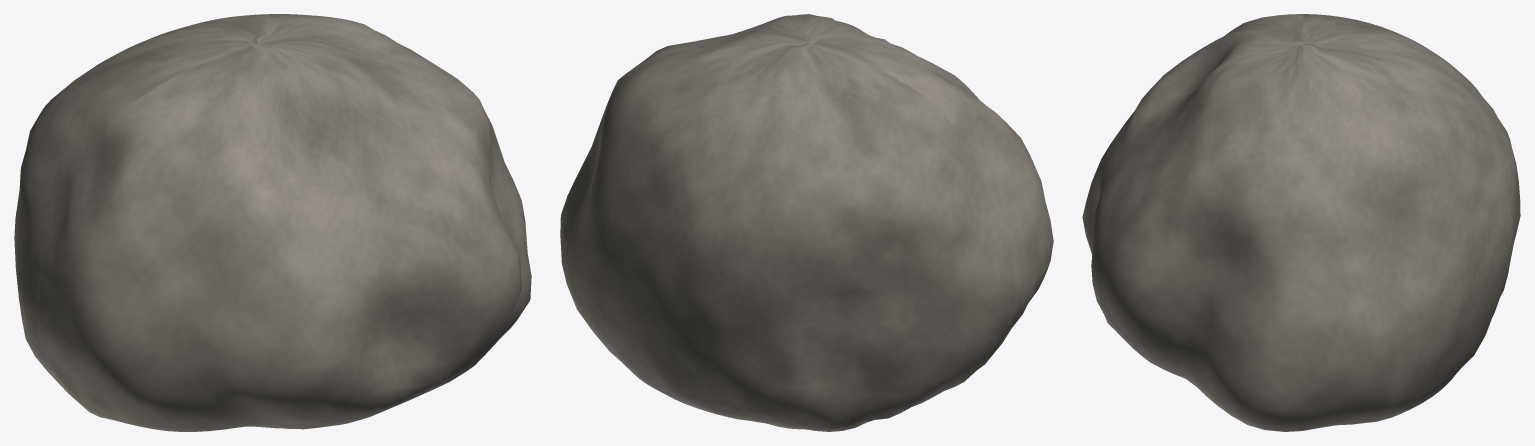
The picture shows the model from 3 angles, left to right: view 1: azimuth 30°, elevation 25°; view 2: azimuth 150°, elevation 25°; view 3: azimuth 270°, elevation 25°; orthographic projection. The views are drawn at different scales.
Visible parts, largest first — view 1: Thebe; view 2: Thebe; view 3: Thebe.
Part boxes in pixels (x1=…): Thebe: x1=14, y1=14, x2=531, y2=431; Thebe: x1=560, y1=14, x2=1053, y2=431; Thebe: x1=1082, y1=14, x2=1520, y2=431.
Bounding box in the file's own units: 105 × 78.61 × 94.34.
1 material, 1 textured.
